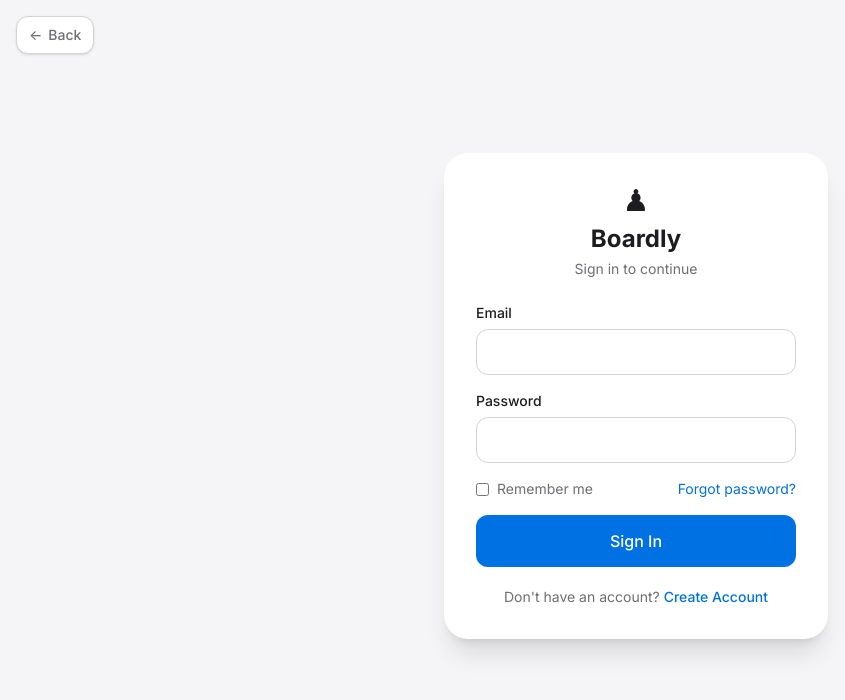
Scenario: Customer Access & Auth Test Suite › LoginPage for Customer › shows error if email or password is empty
Click the button "Sign In".
click(636, 541)  # box x1=476 y1=515 x2=796 y2=567
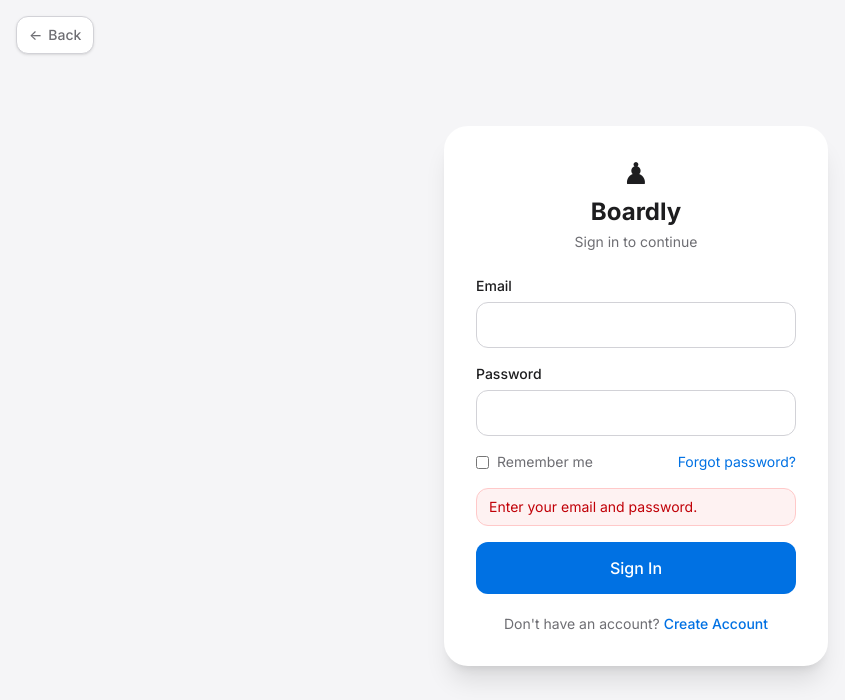
Now the message reads "Enter your email and password.", box x1=489 y1=498 x2=697 y2=515
